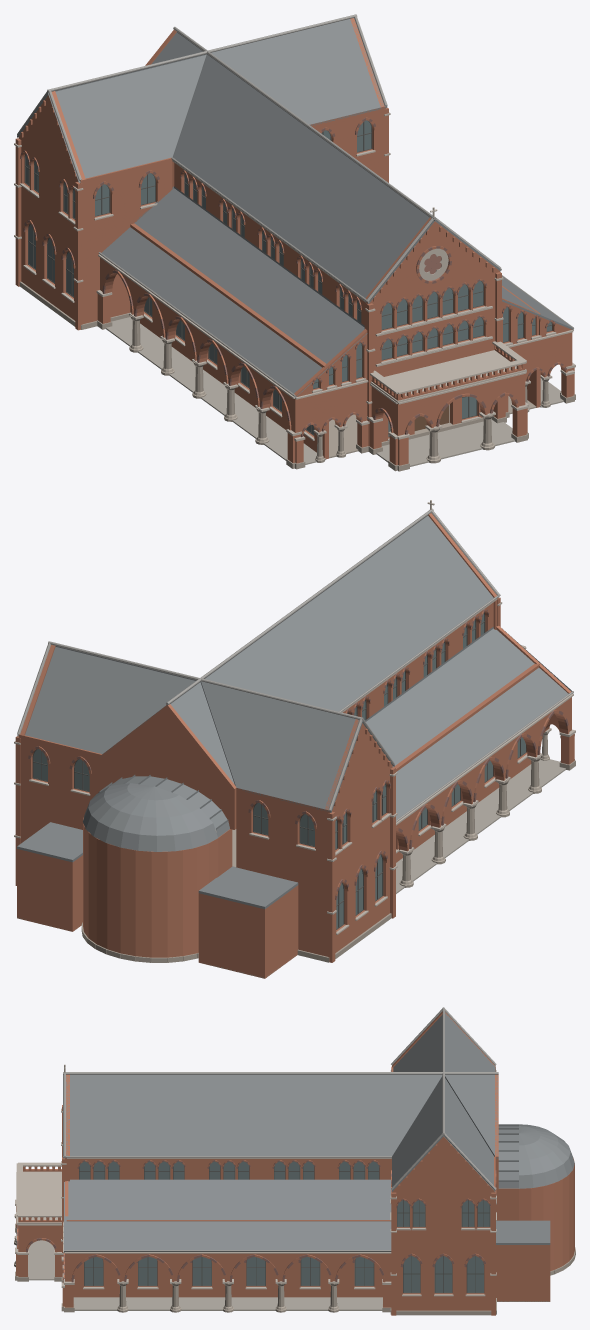
Rendered from huangpu-holy-trinity-cathedral-lod.glb.
3 views of the same model, one above another, from view 1: azimuth 30°, elevation 25°; view 2: azimuth 150°, elevation 25°; view 3: azimuth 270°, elevation 25° (orthographic). The views are drawn at different scales.
Visible parts, largest first — view 1: 圣三一基督教堂（主堂与花园门廊）; view 2: 圣三一基督教堂（主堂与花园门廊）; view 3: 圣三一基督教堂（主堂与花园门廊）.
Boxes of the visible parts, left/top/right/bottom form: 圣三一基督教堂（主堂与花园门廊）: left=14, top=14, right=575, bottom=471; 圣三一基督教堂（主堂与花园门廊）: left=14, top=500, right=575, bottom=978; 圣三一基督教堂（主堂与花园门廊）: left=14, top=1007, right=575, bottom=1315.
Bounding box in the file's own units: 27.56 × 19.04 × 51.19.
